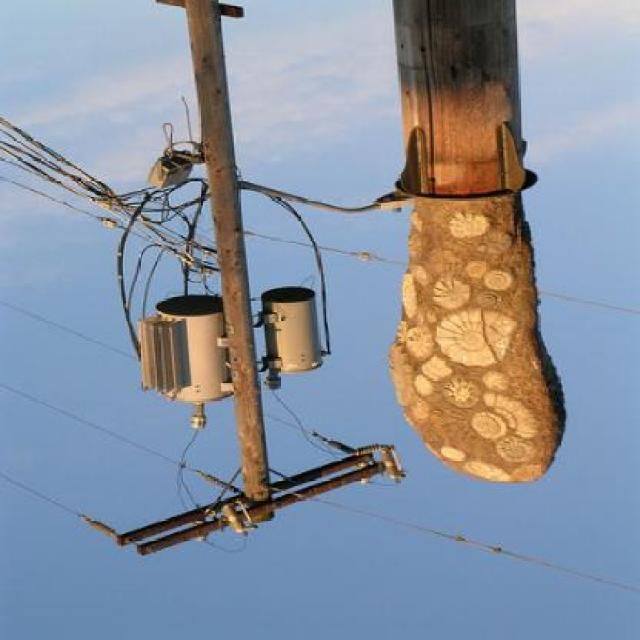pole: (32, 22, 405, 569)
